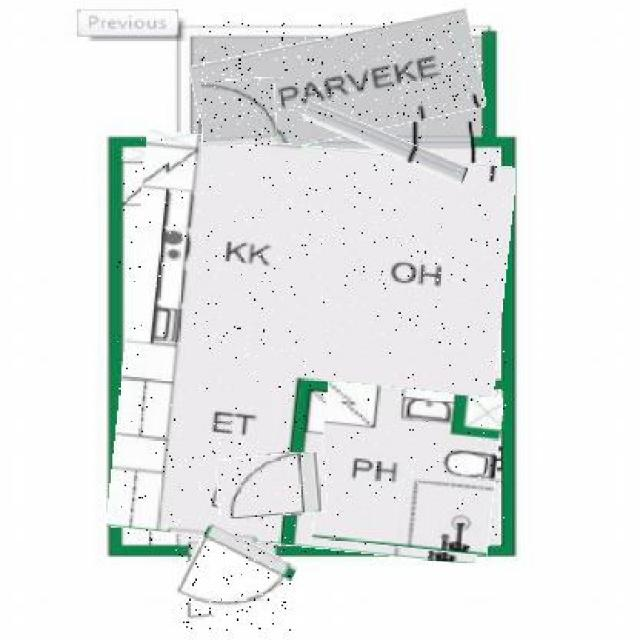door: (180, 532, 291, 631), (217, 454, 328, 517), (201, 79, 277, 146)
window: (302, 119, 470, 168)
zone: (117, 138, 506, 556), (194, 22, 483, 149), (315, 386, 500, 552)
